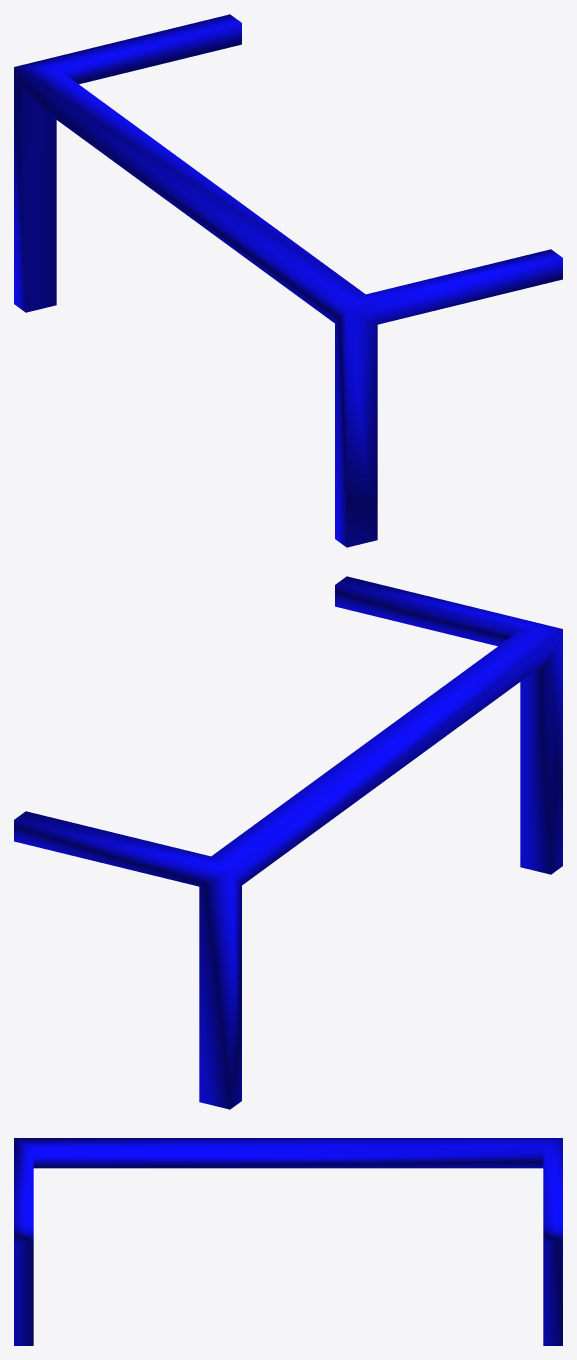
File: Goalsallyback.005.dae
The picture shows the model from 3 angles, top to bottom: view 1: azimuth 30°, elevation 25°; view 2: azimuth 150°, elevation 25°; view 3: azimuth 270°, elevation 25°; orthographic projection. The views are drawn at different scales.
Visible parts, largest first — view 1: collision_0_field_1_5; view 2: collision_0_field_1_5; view 3: collision_0_field_1_5.
Boxes of the visible parts, x1,y1,x2,y2 form: collision_0_field_1_5: (14, 14, 562, 547); collision_0_field_1_5: (14, 576, 562, 1109); collision_0_field_1_5: (14, 1138, 562, 1345).
Bounding box in the file's own units: 1.39 × 3.71 × 1.46.
